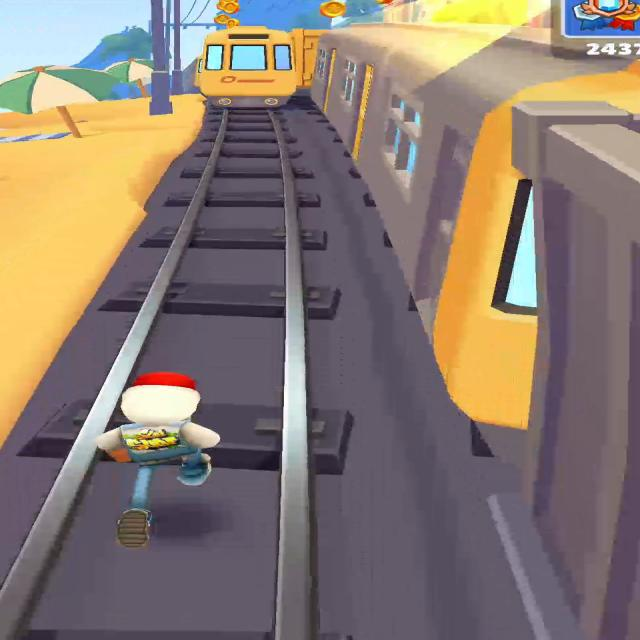train: (312, 23, 639, 429), (199, 26, 303, 108), (291, 29, 326, 88)
